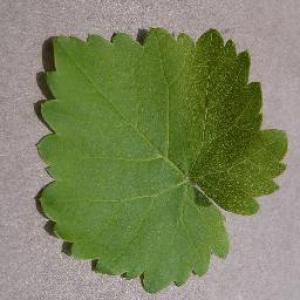Folha: (33, 26, 288, 293)
